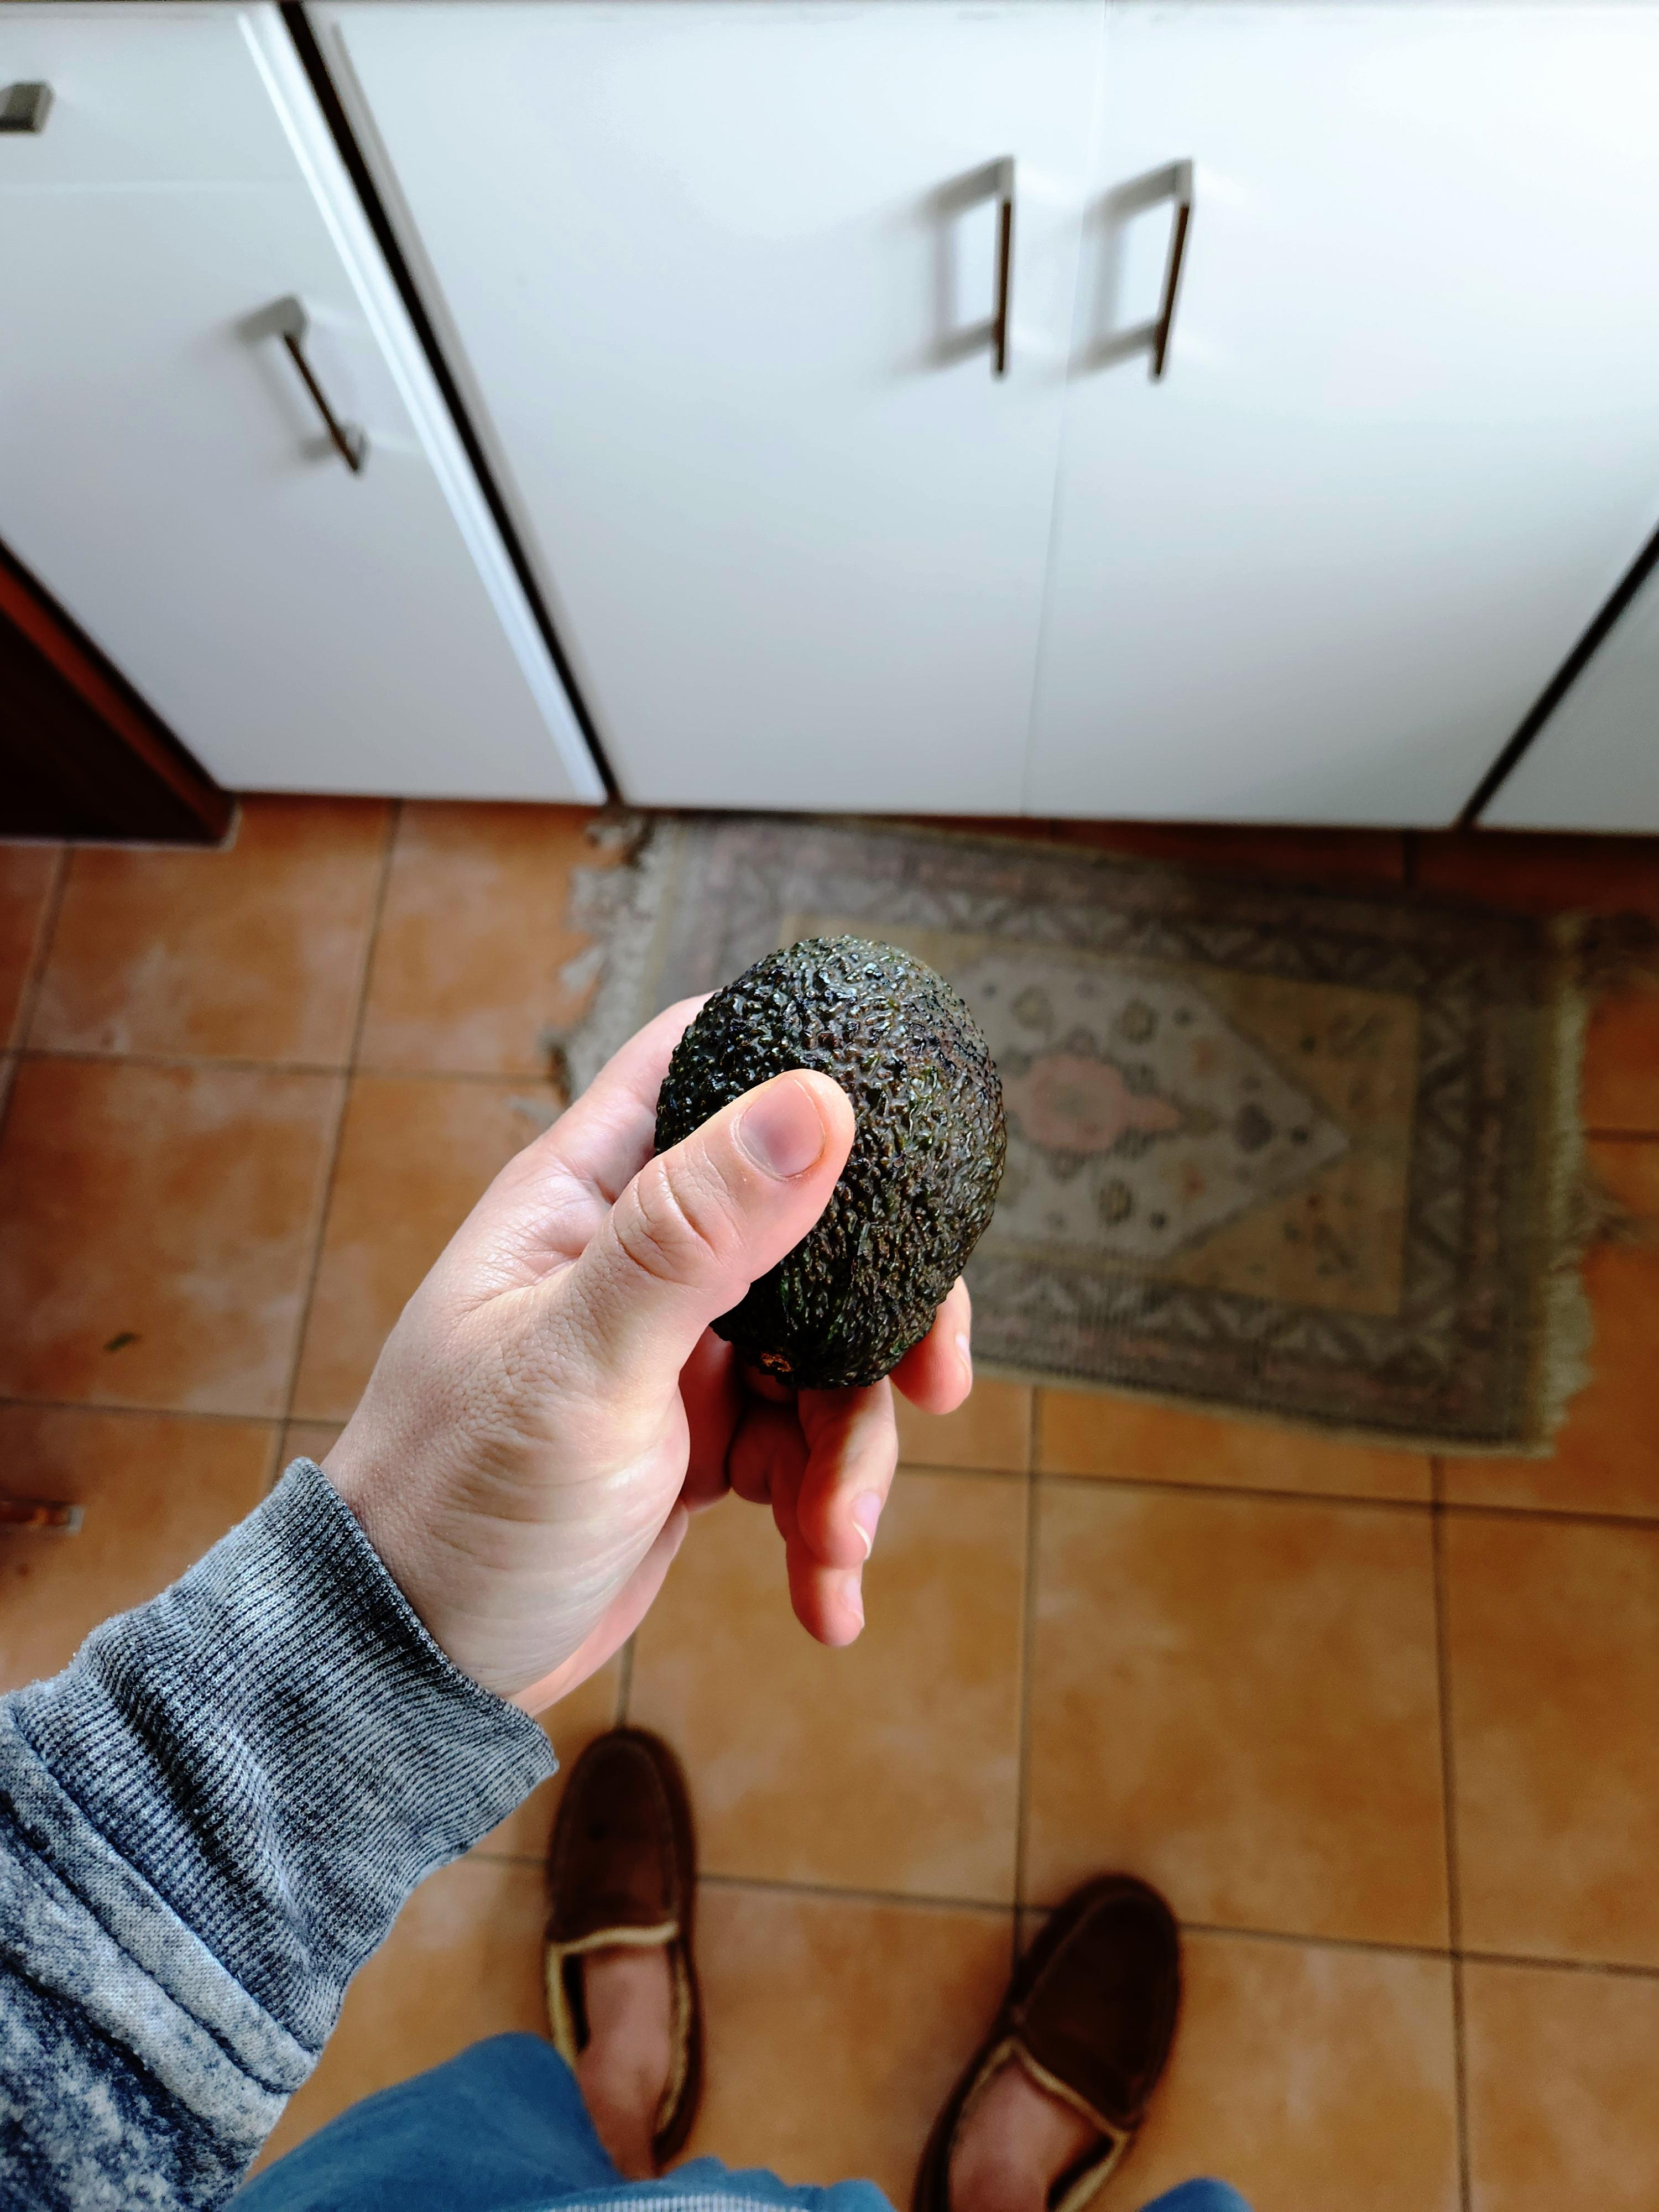avocado: (490, 1231, 760, 1850)
